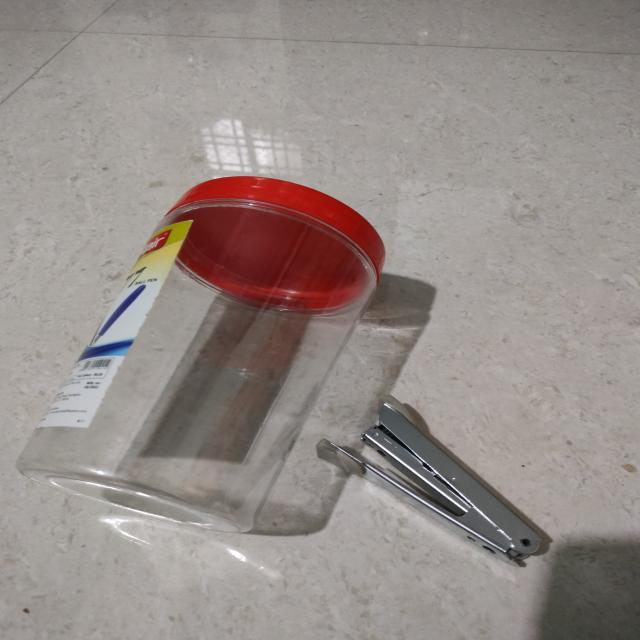dry: (126, 172, 353, 536), (370, 410, 592, 591)
